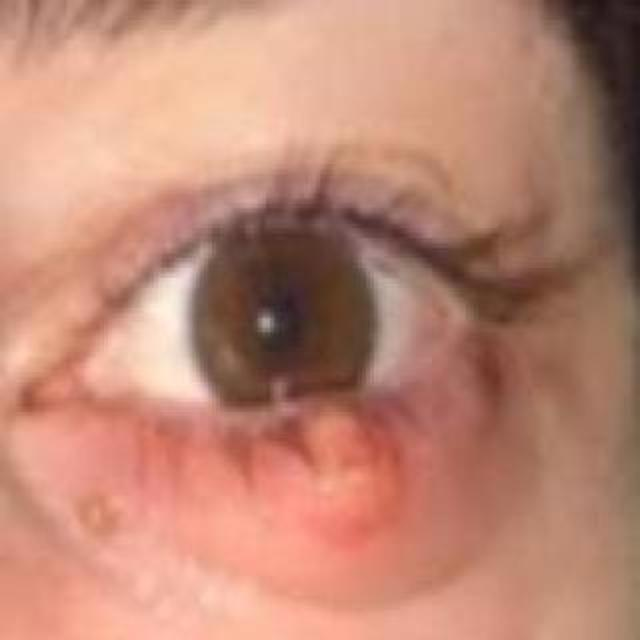Stye: (190, 350, 500, 565)
